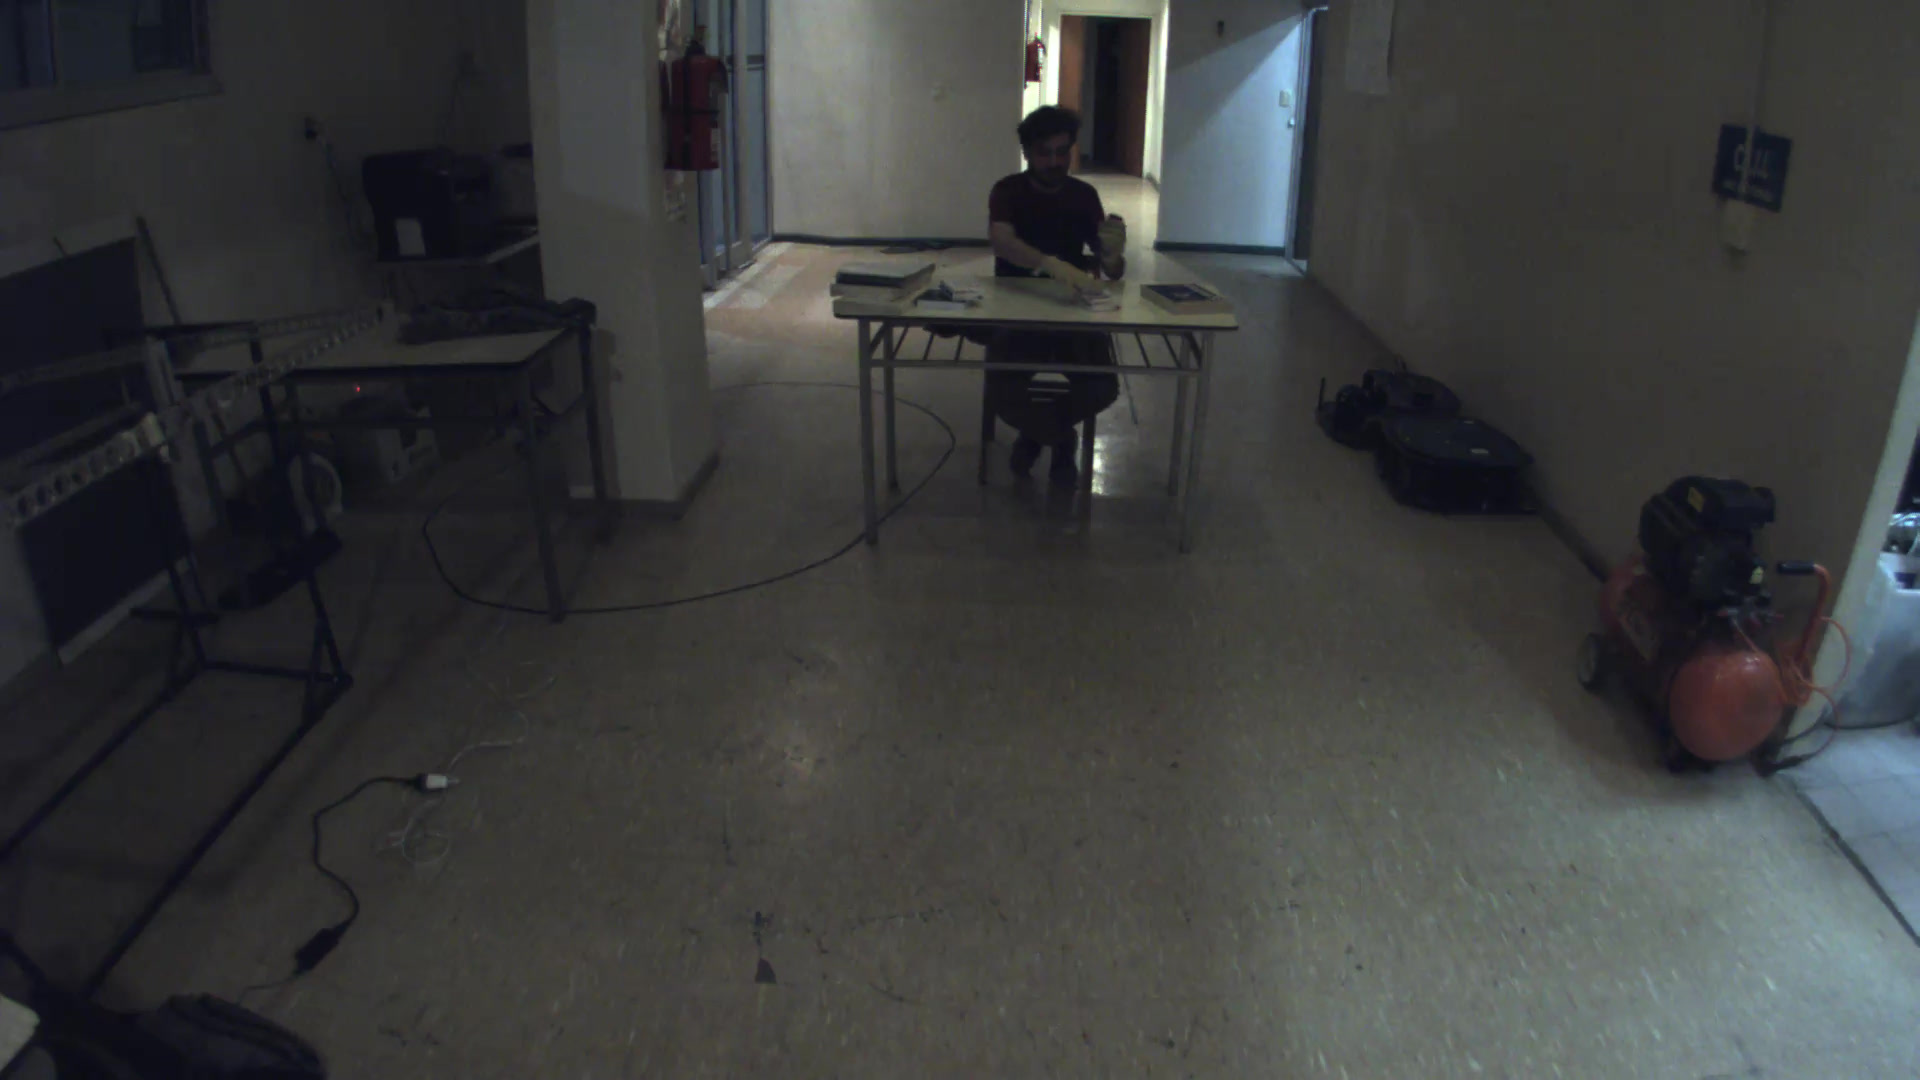hand: (1042, 251, 1098, 309), (1088, 204, 1135, 266)
